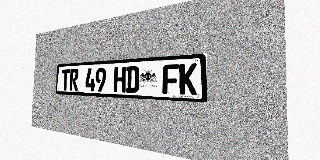4: (85, 68, 95, 91)
9: (95, 67, 106, 92)
D: (126, 66, 139, 93)
F: (162, 64, 179, 94)
H: (113, 66, 126, 92)
K: (179, 63, 197, 95)
R: (69, 69, 79, 91)
T: (61, 69, 70, 90)
